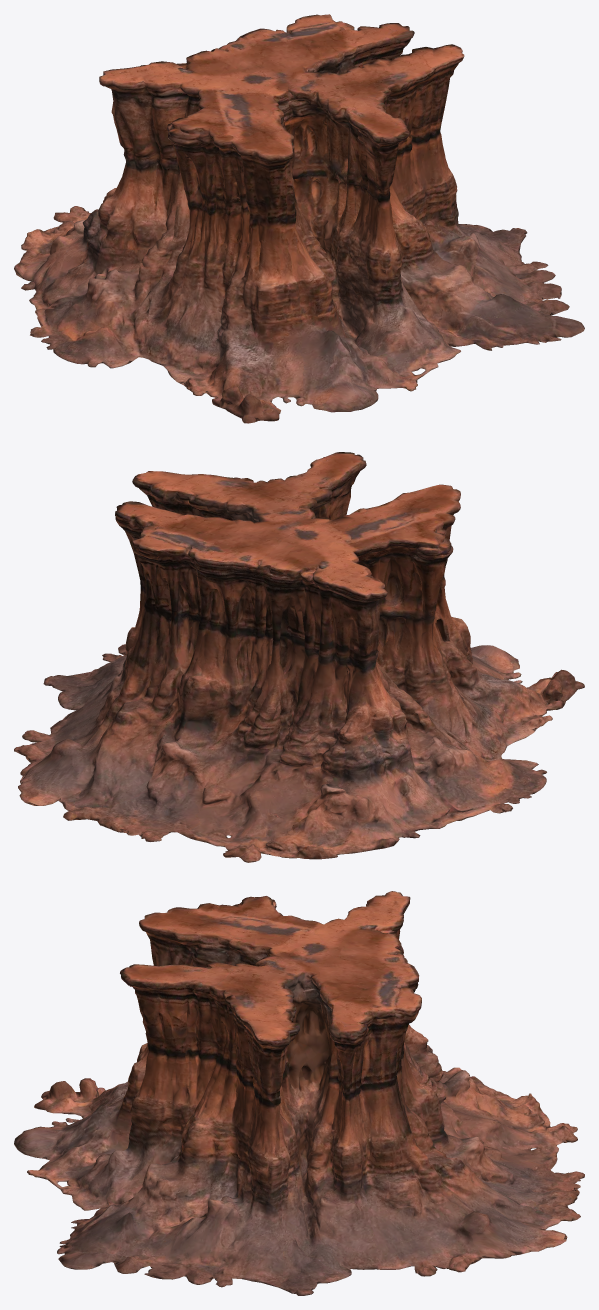
File: 11_Red_Mesa.glb
3 renders of one model, top to bottom at view 1: azimuth 30°, elevation 25°; view 2: azimuth 150°, elevation 25°; view 3: azimuth 270°, elevation 25°, orthographic.
Bounding box in the file's own units: 1.87 × 0.7948 × 1.9.
1 material, 1 textured.
